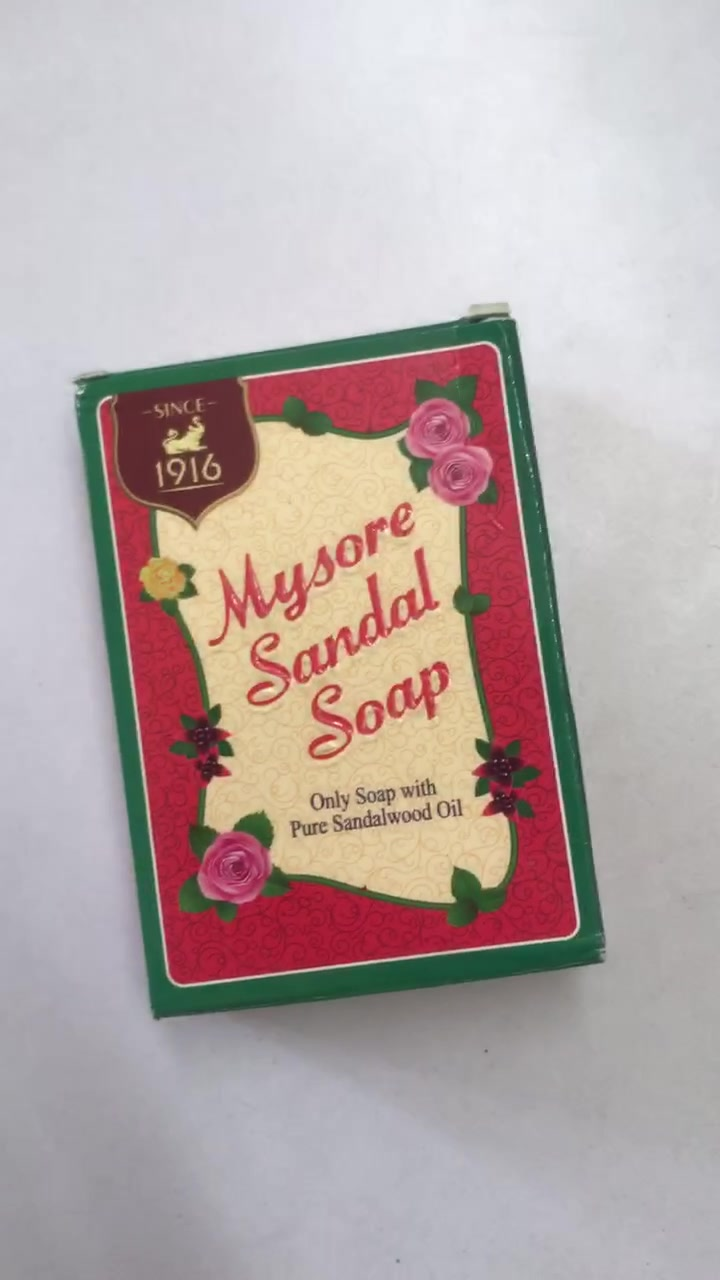mysore sandal soap: (84, 325, 602, 989)
